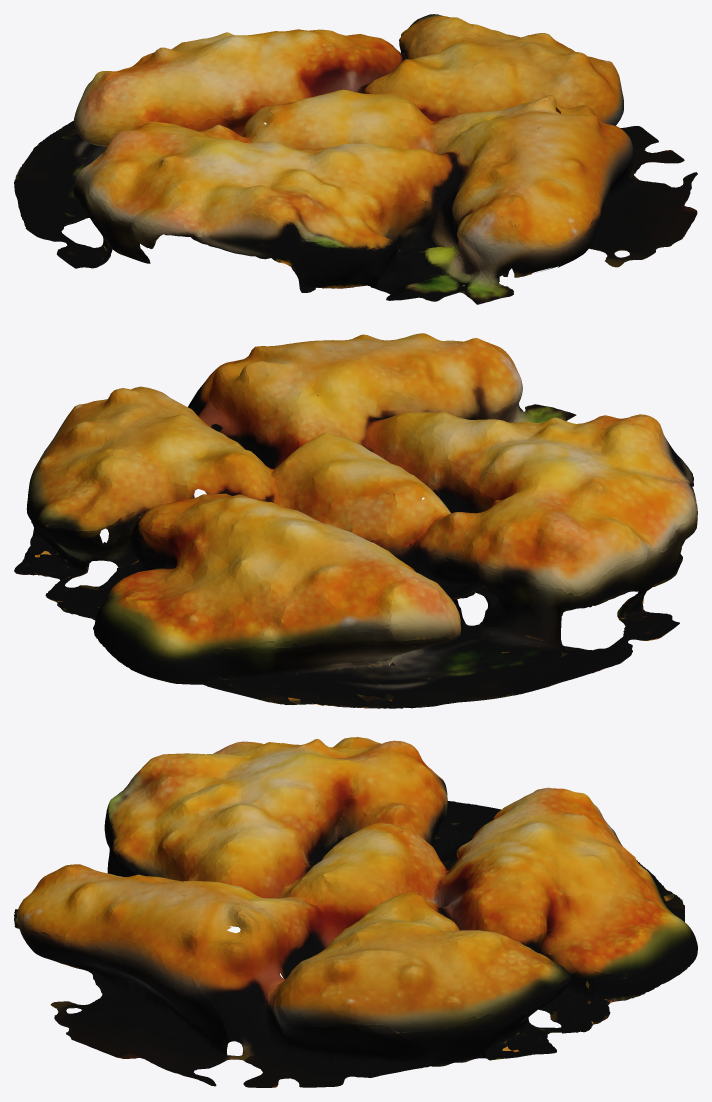
The model's file is friedfishbeehoon.fbx.
3 renders of one model, top to bottom at view 1: azimuth 30°, elevation 25°; view 2: azimuth 150°, elevation 25°; view 3: azimuth 270°, elevation 25°, orthographic. The views are drawn at different scales.
Visible parts, largest first — view 1: world; view 2: world; view 3: world.
Part boxes in pixels (<box>): world: <box>14,14,697,304</box>; world: <box>14,333,697,708</box>; world: <box>14,737,697,1087</box>.
Bounding box in the file's own units: 100 × 17.78 × 99.88.
